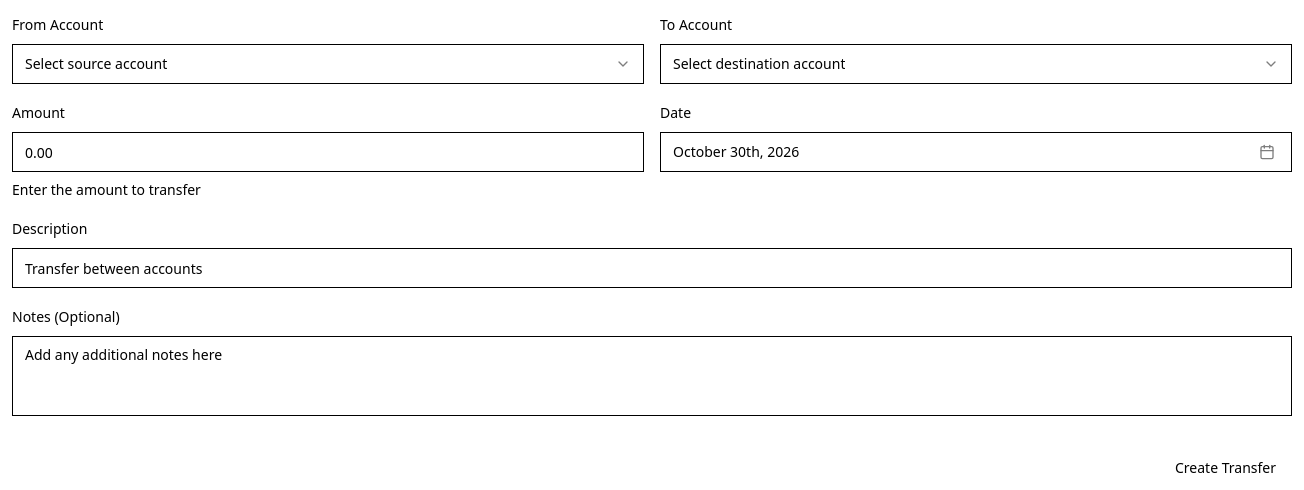
Test case: TransferForm › clears the destination when the chosen source collides with it
Click the dropdown labelled "Select destination account" at (759, 64), box [660,44,1292,84]
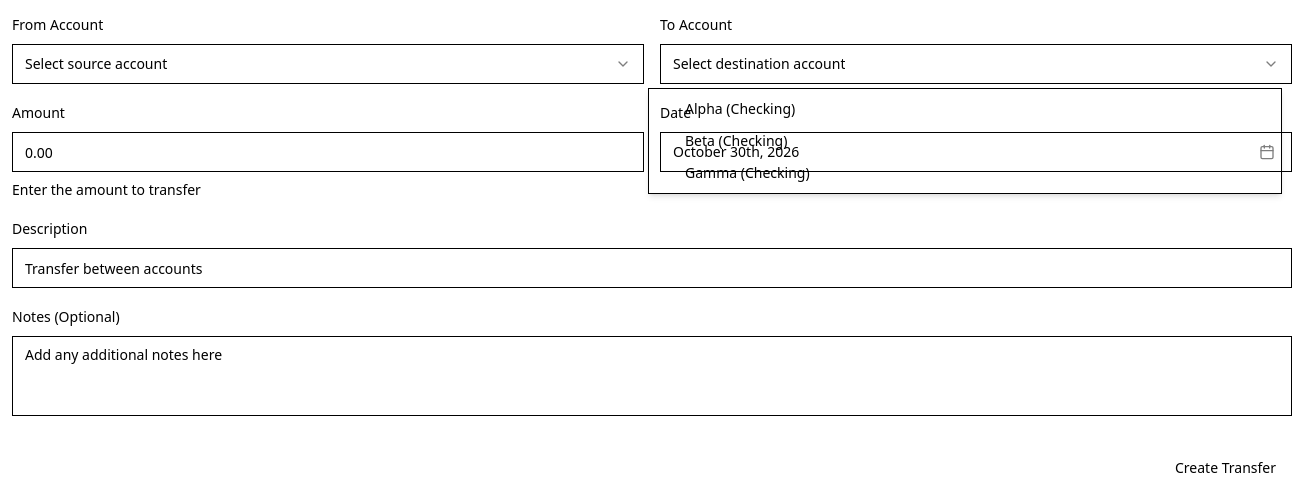
Click the option "Beta (Checking)" at (736, 140), box [685,131,787,150]
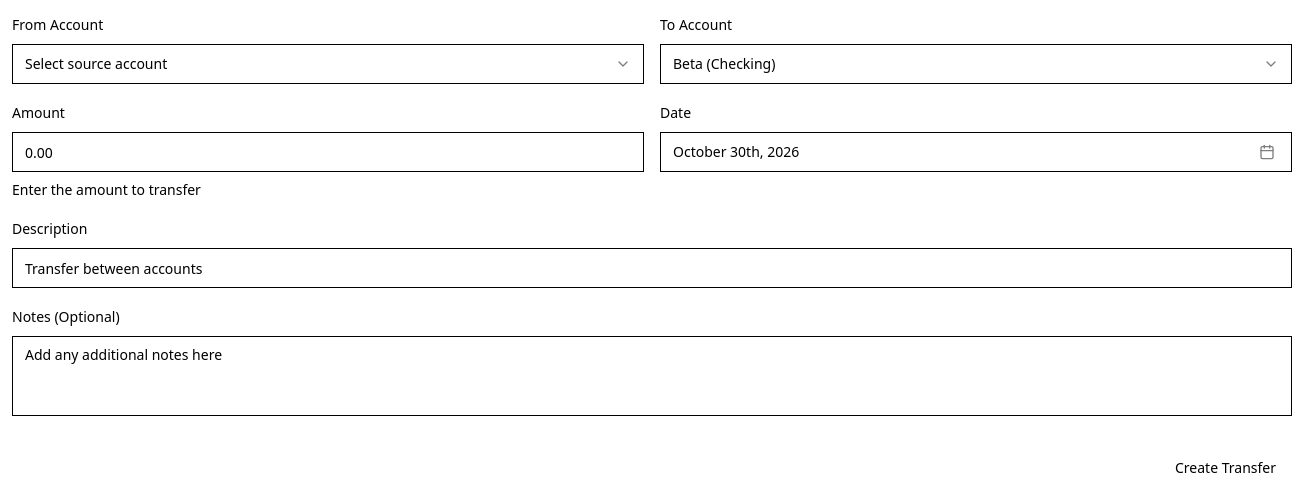
Now the dropdown labelled "Beta (Checking)" is shown, box [660,44,1292,84]
Click the dropdown labelled "Select source account" at (96, 64), box [12,44,644,84]
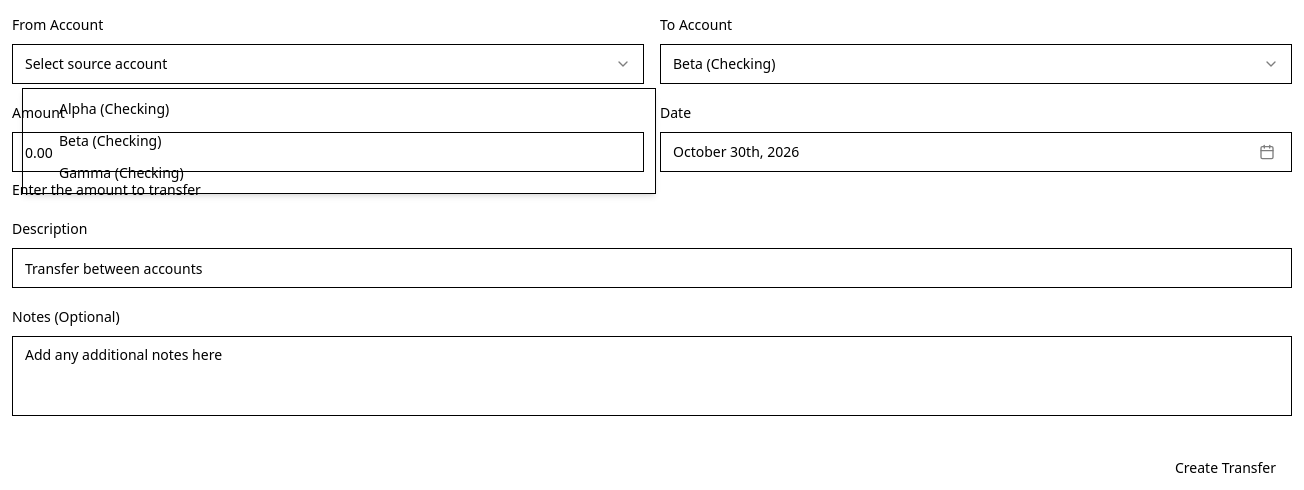
Click the option "Beta (Checking)" at (110, 140), box [59,131,161,150]
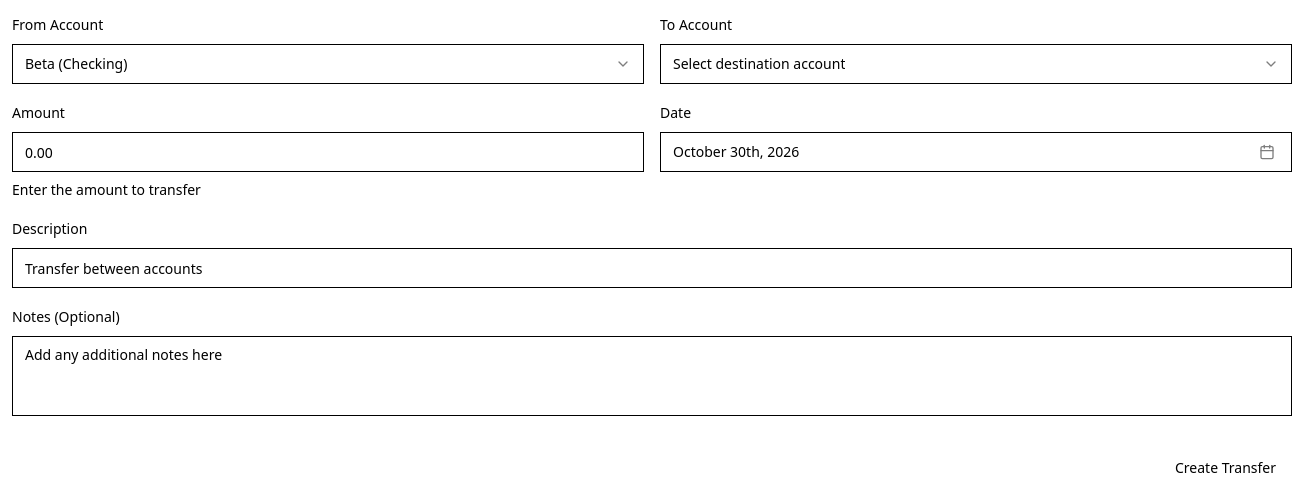
Now the dropdown labelled "Select destination account" is shown, box [660,44,1292,84]
